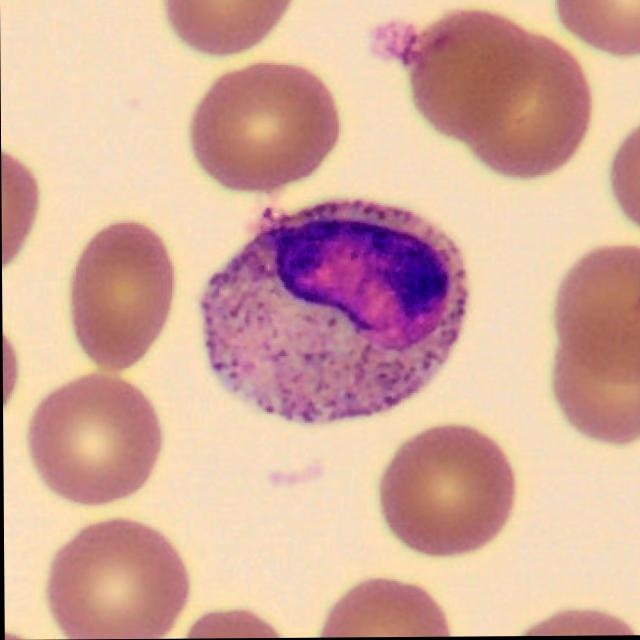Basofilo: (202, 201, 470, 425)
